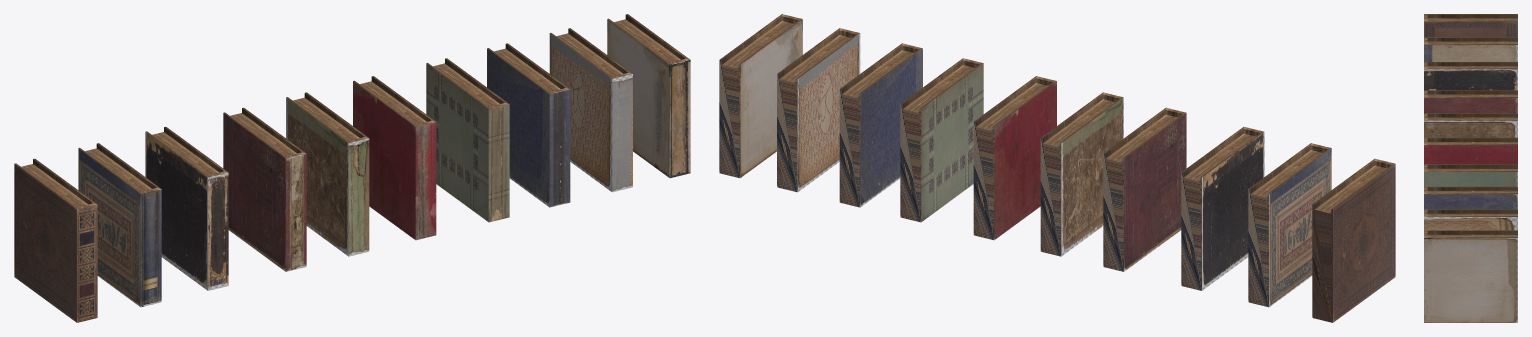
File: Livres.fbx
3 renders of one model, left to right at view 1: azimuth 30°, elevation 25°; view 2: azimuth 150°, elevation 25°; view 3: azimuth 270°, elevation 25°, orthographic. The views are drawn at different scales.
Visible parts, largest first — view 1: Cube, Cube.003, Cube.006, Cube.002, Cube.005, Cube.001, Cube.004, Cube.008, Cube.007, Cube.009; view 2: Cube, Cube.003, Cube.006, Cube.002, Cube.005, Cube.001, Cube.004, Cube.008, Cube.007, Cube.009; view 3: Cube.009, Cube.002, Cube.005, Cube.004, Cube.001, Cube.007, Cube.003, Cube, Cube.006, Cube.008.
Boxes of the visible parts, x1,y1,x2,y2 form: Cube: (14, 158, 97, 322); Cube.003: (223, 107, 306, 271); Cube.006: (426, 58, 509, 222); Cube.002: (145, 127, 228, 290); Cube.005: (353, 76, 436, 240); Cube.001: (78, 143, 161, 307); Cube.004: (286, 92, 369, 256); Cube.008: (549, 28, 632, 192); Cube.007: (487, 43, 570, 207); Cube.009: (607, 14, 690, 178); Cube: (1312, 158, 1395, 322); Cube.003: (1103, 107, 1186, 271); Cube.006: (900, 58, 983, 222); Cube.002: (1181, 127, 1264, 290); Cube.005: (973, 76, 1056, 240); Cube.001: (1248, 143, 1331, 307); Cube.004: (1040, 92, 1123, 256); Cube.008: (777, 28, 860, 192); Cube.007: (839, 43, 922, 207); Cube.009: (719, 14, 802, 178); Cube.009: (1424, 230, 1517, 322); Cube.002: (1424, 62, 1517, 90); Cube.005: (1424, 137, 1517, 164); Cube.004: (1424, 113, 1517, 137); Cube.001: (1424, 37, 1517, 61); Cube.007: (1424, 186, 1517, 209); Cube.003: (1424, 90, 1517, 113); Cube: (1424, 14, 1517, 37); Cube.006: (1424, 164, 1517, 186); Cube.008: (1424, 209, 1517, 230).
Bounding box in the file's own units: 1132 × 200 × 200.
